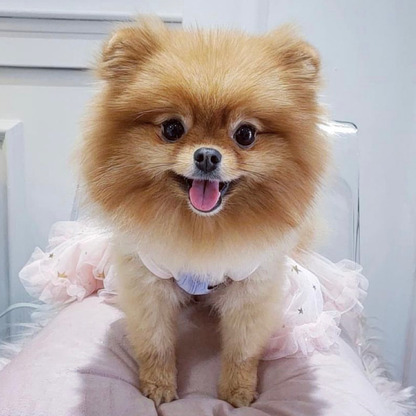Pomeranian: (76, 27, 338, 403)
